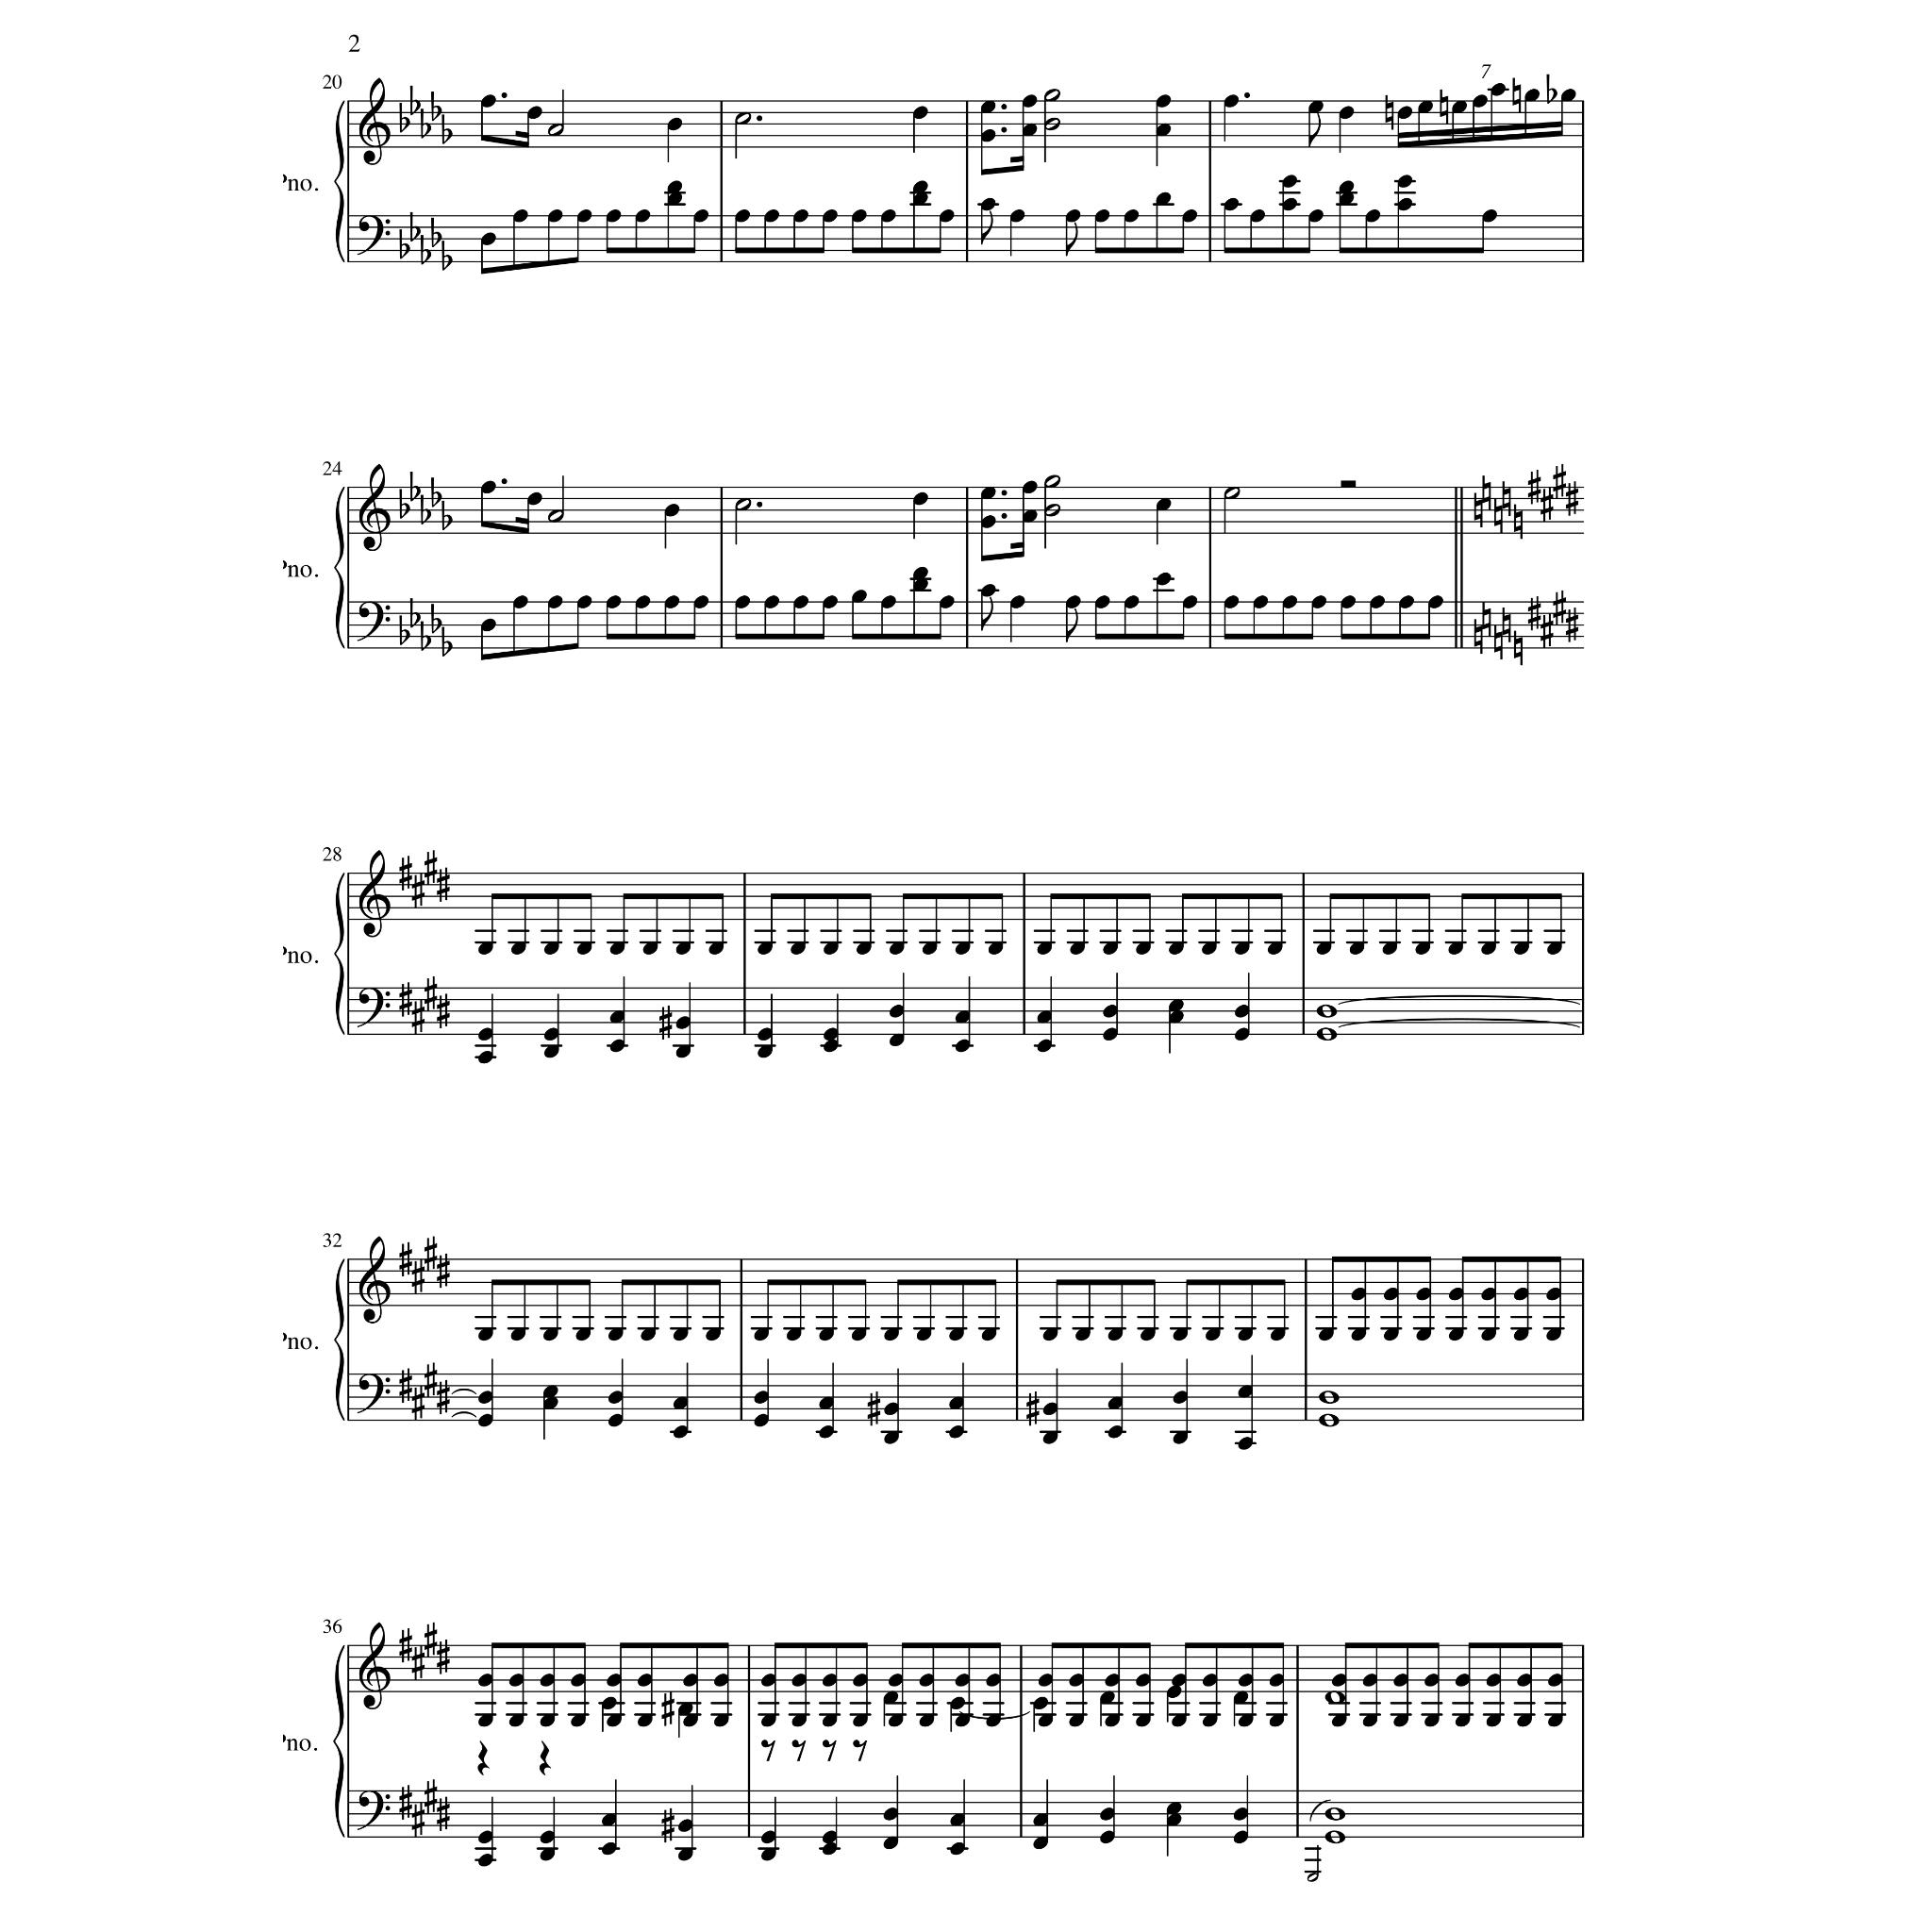brace: (333, 1645, 345, 1838), (333, 101, 345, 264), (333, 487, 345, 649), (333, 872, 345, 1035), (333, 1258, 345, 1421)
fClef: (357, 216, 391, 257), (357, 602, 391, 642), (357, 987, 391, 1028), (357, 1373, 391, 1414), (357, 1790, 391, 1831)
flag8thDown: (980, 211, 993, 246), (1309, 113, 1322, 147), (1065, 223, 1077, 257), (1067, 609, 1079, 642), (980, 598, 993, 632)
gClef: (359, 849, 391, 939), (359, 1235, 391, 1325), (359, 78, 391, 166), (359, 464, 391, 552), (359, 1622, 391, 1711)
noteheadBlack: (1099, 1829, 1116, 1844), (759, 1829, 777, 1844), (1223, 198, 1238, 212), (1281, 198, 1297, 212), (1307, 209, 1323, 223), (1307, 101, 1323, 115), (1281, 175, 1297, 189), (1249, 209, 1265, 223), (1065, 209, 1081, 223), (1008, 209, 1024, 223), (1182, 209, 1198, 223), (1123, 209, 1139, 223), (1560, 88, 1576, 103), (1523, 88, 1539, 103), (1481, 209, 1497, 223), (1396, 175, 1412, 189), (1396, 198, 1412, 212), (1396, 106, 1412, 120), (1364, 209, 1380, 223), (1338, 180, 1353, 195), (1338, 106, 1353, 120), (1451, 101, 1467, 115), (1417, 101, 1433, 115), (605, 209, 621, 223), (635, 209, 651, 223), (667, 180, 683, 195), (577, 209, 593, 223), (734, 209, 750, 223), (694, 209, 709, 223), (547, 209, 563, 223), (527, 106, 543, 120), (513, 209, 529, 223), (938, 209, 954, 223), (980, 129, 996, 143), (911, 180, 927, 195), (911, 106, 927, 120), (881, 209, 897, 223), (980, 198, 996, 212), (980, 101, 996, 115), (823, 209, 839, 223), (793, 209, 809, 223), (764, 209, 780, 223), (851, 209, 867, 223), (1123, 594, 1139, 609), (1093, 594, 1109, 609), (1065, 594, 1081, 609), (1182, 594, 1198, 609), (980, 584, 996, 598), (980, 487, 996, 501), (980, 515, 996, 529), (1010, 594, 1026, 609), (1428, 594, 1444, 609), (1398, 594, 1414, 609), (1369, 594, 1385, 609), (1253, 594, 1269, 609), (1339, 594, 1355, 609), (1311, 594, 1327, 609), (1281, 594, 1297, 609), (605, 594, 621, 609), (577, 594, 593, 609), (547, 594, 563, 609), (694, 594, 709, 609), (663, 594, 679, 609), (663, 502, 679, 517), (635, 594, 651, 609), (527, 492, 543, 506), (513, 594, 529, 609), (851, 589, 867, 603), (823, 594, 839, 609), (939, 594, 955, 609), (793, 594, 809, 609), (913, 566, 929, 580), (913, 492, 929, 506), (881, 594, 897, 609), (764, 594, 780, 609), (734, 594, 750, 609), (1168, 998, 1184, 1012), (1168, 1010, 1184, 1024), (1168, 941, 1184, 955), (1136, 941, 1152, 955), (1235, 941, 1251, 955), (1201, 941, 1217, 955), (1235, 1028, 1251, 1042), (1037, 1010, 1053, 1024), (1037, 941, 1053, 955), (987, 941, 1003, 955), (1102, 1028, 1118, 1042), (1102, 941, 1118, 955), (1069, 941, 1085, 955), (1546, 941, 1562, 955), (1513, 941, 1529, 955), (1481, 941, 1497, 955), (1447, 941, 1463, 955), (1316, 941, 1332, 955), (1267, 941, 1283, 955), (1415, 941, 1431, 955), (1382, 941, 1398, 955), (1348, 941, 1364, 955), (609, 1010, 625, 1024), (609, 941, 625, 955), (577, 941, 593, 955), (543, 1028, 559, 1042), (543, 941, 559, 955), (676, 941, 692, 955), (676, 1016, 692, 1030), (642, 941, 658, 955), (510, 941, 525, 955), (478, 1028, 494, 1042), (478, 941, 494, 955), (855, 941, 870, 955), (823, 1028, 839, 1042), (823, 941, 839, 955), (791, 941, 807, 955), (954, 1010, 970, 1024), (954, 941, 970, 955), (922, 941, 938, 955), (888, 1033, 904, 1047), (888, 941, 904, 955), (757, 1028, 773, 1042), (757, 941, 773, 955), (708, 941, 724, 955), (1237, 1437, 1253, 1451), (1042, 1403, 1058, 1417), (1108, 1396, 1123, 1410), (607, 1414, 623, 1428), (672, 1396, 688, 1410), (478, 1414, 494, 1428), (819, 1396, 835, 1410), (883, 1403, 899, 1417), (754, 1414, 770, 1428), (948, 1396, 964, 1410), (1166, 1684, 1182, 1698), (1233, 1829, 1249, 1844), (1166, 1801, 1182, 1815), (1033, 1697, 1049, 1711), (600, 1842, 616, 1856), (600, 1697, 616, 1711), (678, 1702, 694, 1716), (478, 1829, 494, 1844), (478, 1852, 494, 1867), (540, 1829, 556, 1844), (821, 1829, 837, 1844), (821, 1842, 837, 1856), (950, 1842, 966, 1856), (950, 1697, 966, 1711), (915, 1329, 932, 1341), (1099, 1808, 1116, 1821), (1099, 1691, 1116, 1704), (886, 1674, 904, 1686), (886, 1714, 904, 1727), (759, 1849, 777, 1861), (759, 1674, 777, 1686), (759, 1714, 777, 1727), (1095, 209, 1109, 223), (1224, 594, 1238, 609), (543, 1396, 557, 1410), (1223, 96, 1238, 108), (1021, 96, 1037, 108), (1021, 124, 1037, 136), (1155, 96, 1171, 108), (1155, 193, 1171, 205), (1155, 124, 1171, 136), (1490, 83, 1506, 96), (1338, 193, 1353, 205), (1472, 96, 1488, 108), (667, 193, 683, 205), (667, 119, 683, 131), (479, 234, 495, 246), (479, 96, 495, 108), (911, 193, 927, 205), (1155, 573, 1171, 586), (1155, 499, 1171, 511), (1021, 481, 1037, 494), (1021, 510, 1037, 522), (479, 619, 495, 632), (479, 481, 495, 494), (913, 579, 929, 591), (1235, 1005, 1251, 1017), (1037, 1040, 1053, 1053), (1102, 1005, 1118, 1017), (609, 1040, 625, 1053), (543, 1046, 559, 1058), (676, 1046, 692, 1058), (478, 1051, 494, 1063), (823, 1040, 839, 1053), (954, 1040, 970, 1053), (888, 1005, 904, 1017), (757, 1046, 773, 1058), (1139, 1329, 1155, 1341), (1173, 1391, 1189, 1403), (1173, 1431, 1189, 1444), (1173, 1329, 1189, 1341), (980, 1329, 996, 1341), (1270, 1329, 1286, 1341), (1237, 1385, 1253, 1398), (1237, 1329, 1253, 1341), (1205, 1329, 1221, 1341), (1042, 1431, 1058, 1444), (1042, 1329, 1058, 1341), (1108, 1426, 1123, 1438), (1108, 1329, 1123, 1341), (1076, 1329, 1092, 1341), (1546, 1288, 1562, 1300), (1546, 1329, 1562, 1341), (1513, 1288, 1529, 1300), (1513, 1329, 1529, 1341), (1481, 1288, 1497, 1300), (1481, 1329, 1497, 1341), (1447, 1288, 1463, 1300), (1447, 1329, 1463, 1341), (1318, 1329, 1334, 1341), (1382, 1288, 1398, 1300), (1415, 1288, 1431, 1300), (1415, 1329, 1431, 1341), (1382, 1329, 1398, 1341), (1350, 1288, 1366, 1300), (1350, 1329, 1366, 1341), (607, 1391, 623, 1403), (607, 1329, 623, 1341), (575, 1329, 591, 1341), (706, 1329, 722, 1341), (672, 1426, 688, 1438), (672, 1329, 688, 1341), (640, 1329, 656, 1341), (510, 1329, 525, 1341), (478, 1391, 494, 1403), (478, 1329, 494, 1341), (819, 1426, 835, 1438), (819, 1329, 835, 1341), (948, 1329, 964, 1341), (883, 1431, 899, 1444), (883, 1329, 899, 1341), (851, 1329, 867, 1341), (948, 1426, 964, 1438), (754, 1329, 770, 1341), (754, 1391, 770, 1403), (786, 1329, 801, 1341), (1166, 1813, 1182, 1826), (1171, 1674, 1187, 1686), (1171, 1714, 1187, 1727), (1136, 1674, 1152, 1686), (1136, 1714, 1152, 1727), (1201, 1714, 1217, 1727), (1233, 1808, 1249, 1821), (1233, 1691, 1249, 1704), (1237, 1674, 1253, 1686), (1237, 1714, 1253, 1727), (1201, 1674, 1217, 1686), (985, 1674, 1001, 1686), (1033, 1813, 1049, 1826), (1033, 1836, 1049, 1849), (1037, 1674, 1053, 1686), (1037, 1714, 1053, 1727), (985, 1714, 1001, 1727), (1104, 1674, 1120, 1686), (1104, 1714, 1120, 1727), (1069, 1674, 1085, 1686), (1069, 1714, 1085, 1727), (1516, 1674, 1532, 1686), (1516, 1714, 1532, 1727), (1486, 1674, 1502, 1686), (1486, 1714, 1502, 1727), (1454, 1674, 1470, 1686), (1454, 1714, 1470, 1727), (1424, 1674, 1440, 1686), (1424, 1714, 1440, 1727), (1546, 1674, 1562, 1686), (1546, 1714, 1562, 1727), (1269, 1674, 1284, 1686), (1269, 1714, 1284, 1727), (1392, 1674, 1408, 1686), (1392, 1714, 1408, 1727), (1362, 1674, 1378, 1686), (1362, 1714, 1378, 1727), (1330, 1674, 1346, 1686), (1330, 1714, 1346, 1727), (600, 1813, 616, 1826), (637, 1714, 653, 1727), (607, 1674, 623, 1686), (607, 1714, 623, 1727), (570, 1674, 586, 1686), (570, 1714, 586, 1727), (713, 1674, 729, 1686), (713, 1714, 729, 1727), (950, 1813, 966, 1826), (678, 1819, 694, 1831), (678, 1849, 694, 1861), (683, 1674, 699, 1686), (683, 1714, 699, 1727), (637, 1674, 653, 1686), (478, 1674, 494, 1686), (478, 1714, 494, 1727), (540, 1849, 556, 1861), (540, 1674, 556, 1686), (540, 1714, 556, 1727), (508, 1674, 524, 1686), (508, 1714, 524, 1727), (853, 1674, 869, 1686), (853, 1714, 869, 1727), (821, 1674, 837, 1686), (821, 1714, 837, 1727), (954, 1674, 970, 1686), (954, 1714, 970, 1727), (918, 1674, 934, 1686), (918, 1714, 934, 1727), (883, 1808, 899, 1821), (883, 1836, 899, 1849), (883, 1691, 899, 1704), (791, 1674, 807, 1686), (791, 1714, 807, 1727), (543, 1385, 557, 1398), (543, 1329, 557, 1341)
noteheadHalf: (734, 111, 750, 126), (1224, 487, 1240, 501), (1044, 474, 1060, 488), (547, 124, 564, 136), (547, 510, 564, 522), (1044, 90, 1060, 103), (1044, 119, 1060, 131), (1044, 504, 1060, 517), (734, 499, 750, 511), (1306, 1872, 1318, 1882)
noteheadWhole: (1323, 1806, 1346, 1821), (1323, 1829, 1346, 1844), (1323, 1691, 1346, 1706), (1316, 1028, 1338, 1042), (1318, 1391, 1339, 1405), (1318, 1414, 1339, 1428), (1316, 1005, 1338, 1017)
rest8th: (851, 1739, 867, 1762), (821, 1739, 837, 1762), (791, 1739, 807, 1762), (761, 1739, 775, 1762)
restHalf: (1339, 479, 1355, 488)
restQuarter: (476, 1739, 490, 1775), (540, 1739, 552, 1775)
